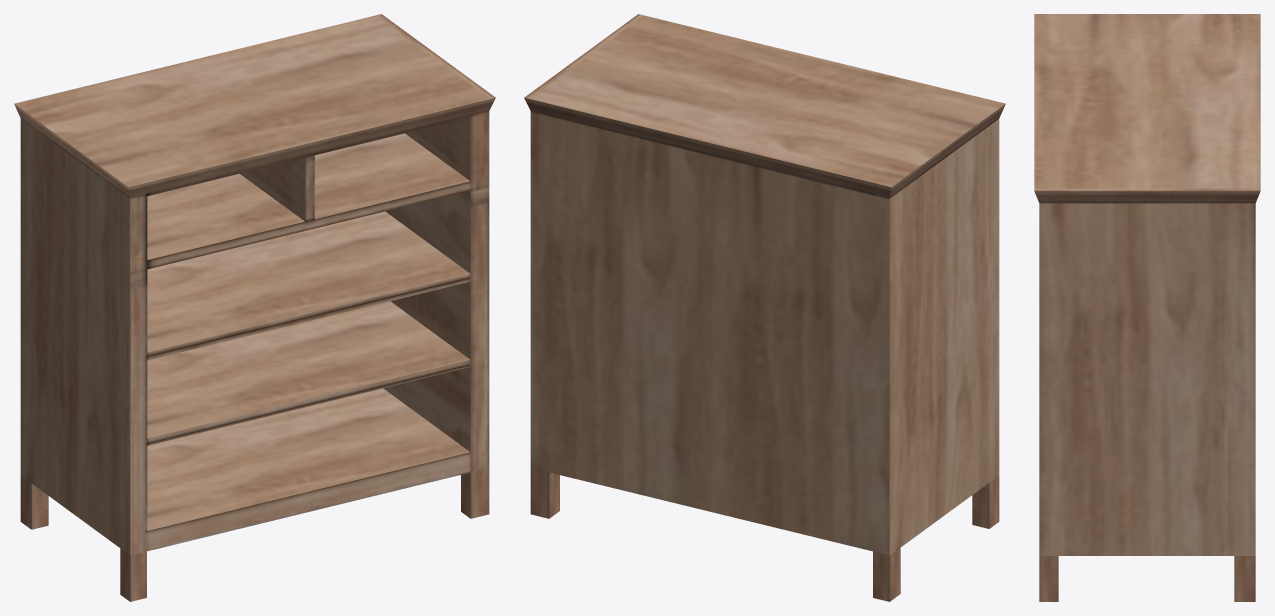
Rendered from Chest_drawers_06-col.glb.
3 renders of one model, left to right at view 1: azimuth 30°, elevation 25°; view 2: azimuth 150°, elevation 25°; view 3: azimuth 270°, elevation 25°, orthographic.
Parts seen in each view (by area): view 1: Chest_drawers_06-col; view 2: Chest_drawers_06-col; view 3: Chest_drawers_06-col.
Part boxes in pixels (x1,y1,x2,y2): Chest_drawers_06-col: (14, 14, 495, 601); Chest_drawers_06-col: (524, 14, 1005, 601); Chest_drawers_06-col: (1034, 14, 1260, 601).
Bounding box in the file's own units: 0.8973 × 0.9738 × 0.4837.
Materials: 1 (1 with a texture image).
